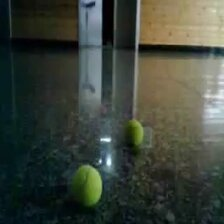tennis: (70, 163, 104, 207), (125, 119, 142, 149)
